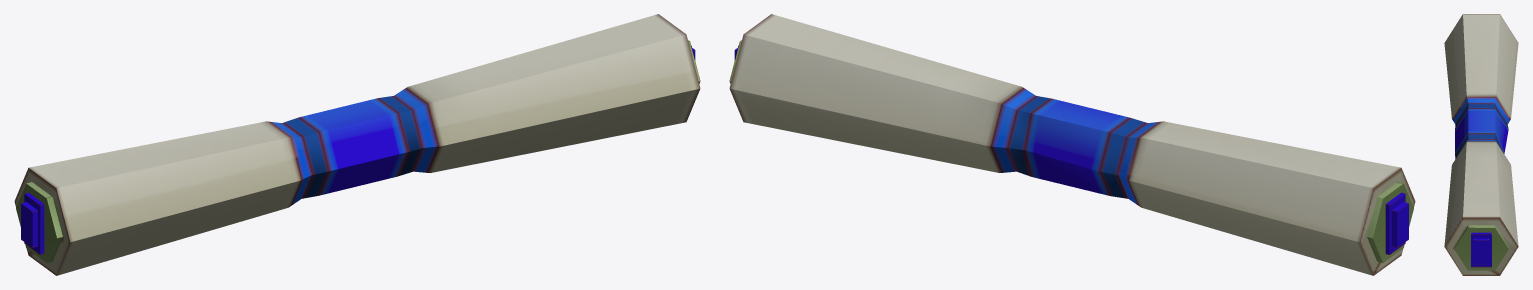
File: scroll3.FBX
3 views of the same model, side by side, from view 1: azimuth 30°, elevation 25°; view 2: azimuth 150°, elevation 25°; view 3: azimuth 270°, elevation 25° (orthographic). The views are drawn at different scales.
Visible parts, largest first — view 1: Object007; view 2: Object007; view 3: Object007.
Boxes of the visible parts, x1,y1,x2,y2 form: Object007: (14, 14, 700, 275); Object007: (729, 14, 1415, 275); Object007: (1444, 14, 1518, 275).
Size of the model in its own units: 103 by 12.99 by 15.
